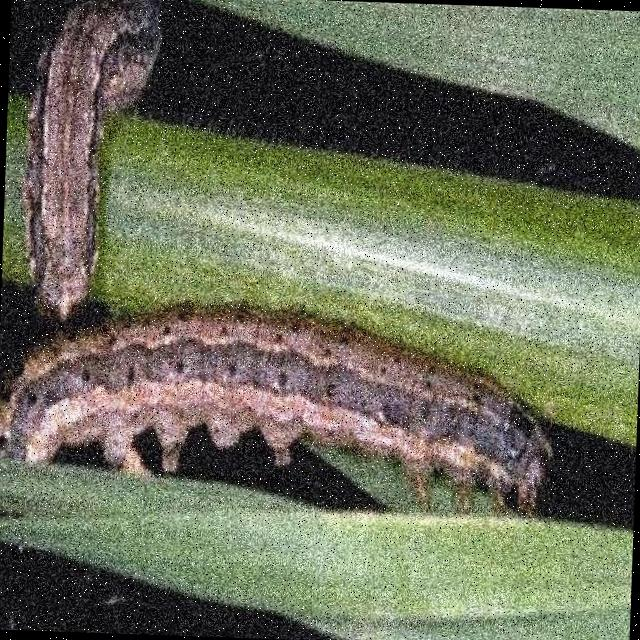worm: (1, 294, 559, 519), (17, 1, 165, 326)
